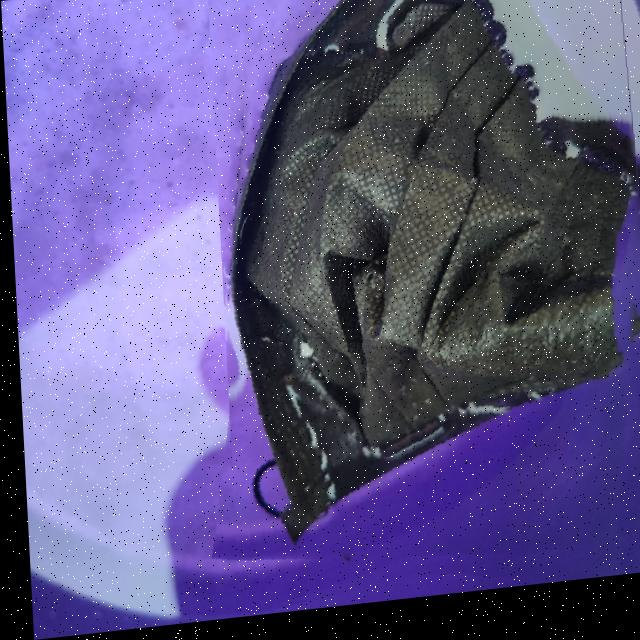mask: (206, 0, 640, 617)
